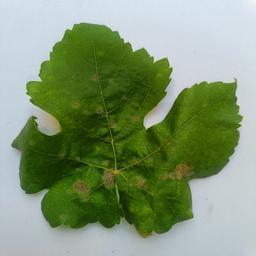Powdery-Mildew: (109, 103, 141, 133)
